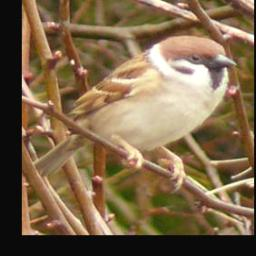Sparrow: (32, 35, 240, 193)
